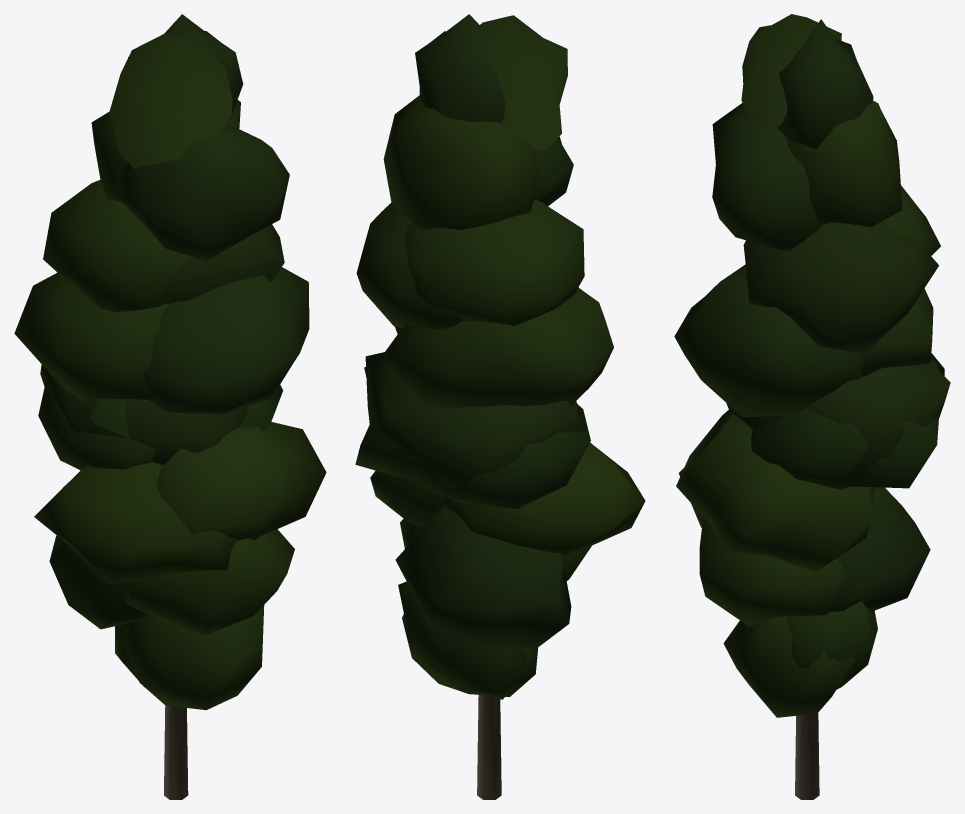
The model's file is tree_poplar_1.fbx.
3 views of the same model, side by side, from view 1: azimuth 30°, elevation 25°; view 2: azimuth 150°, elevation 25°; view 3: azimuth 270°, elevation 25° (orthographic).
Parts seen in each view (by area): view 1: tree_poplar_1; view 2: tree_poplar_1; view 3: tree_poplar_1.
Boxes of the visible parts, left/top/right/bottom form: tree_poplar_1: left=14, top=14, right=326, bottom=799; tree_poplar_1: left=355, top=14, right=645, bottom=799; tree_poplar_1: left=674, top=14, right=950, bottom=799.
Size of the model in its own units: 5.75 by 16.82 by 5.38.
